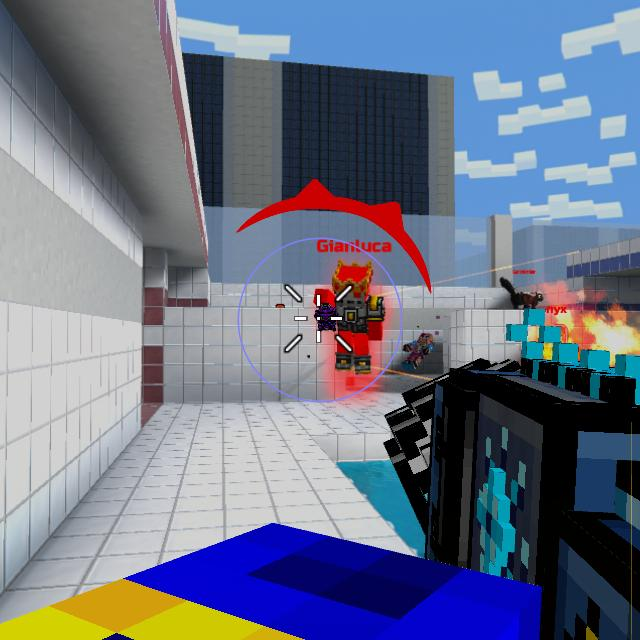Enemy: (316, 268, 386, 376)
